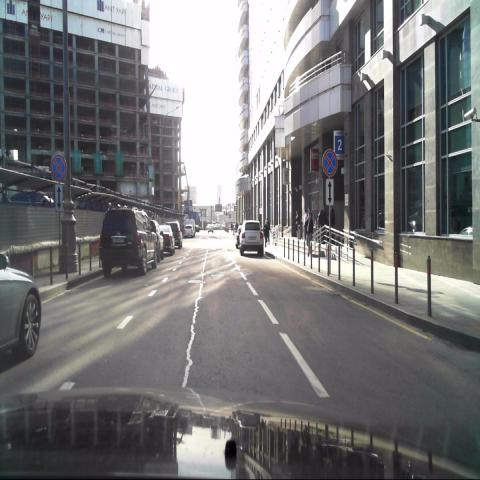8_2_4: (54, 182, 64, 214), (325, 179, 335, 207)
